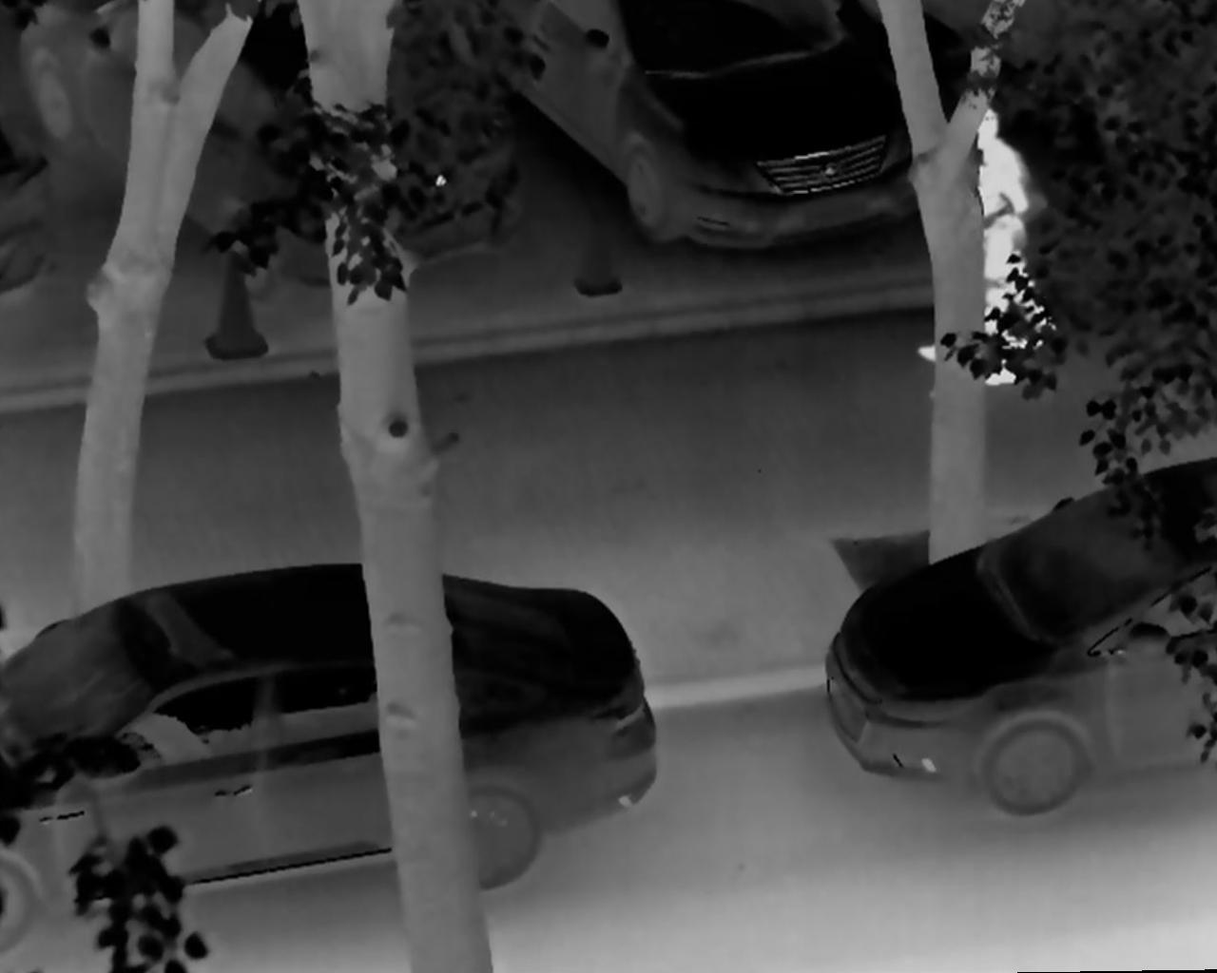person: (918, 164, 1024, 394), (968, 99, 1061, 358)
